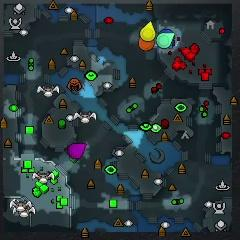p1: (160, 29, 174, 49)
p2: (158, 33, 175, 49)
p3: (68, 143, 87, 159)
p4: (140, 21, 156, 41)
p5: (138, 37, 155, 51)
